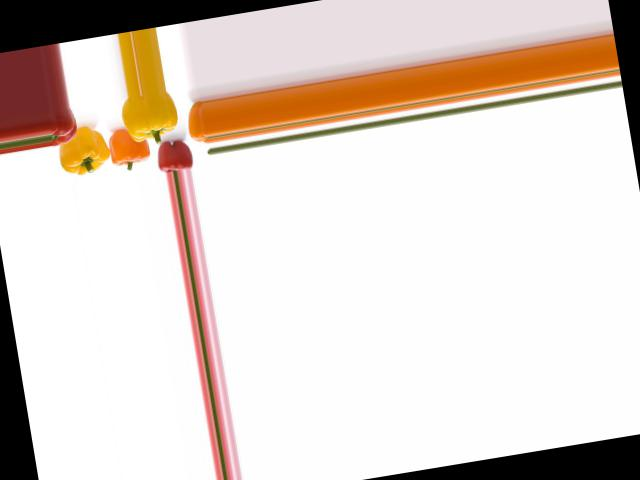bell_pepper: (182, 100, 209, 147)
